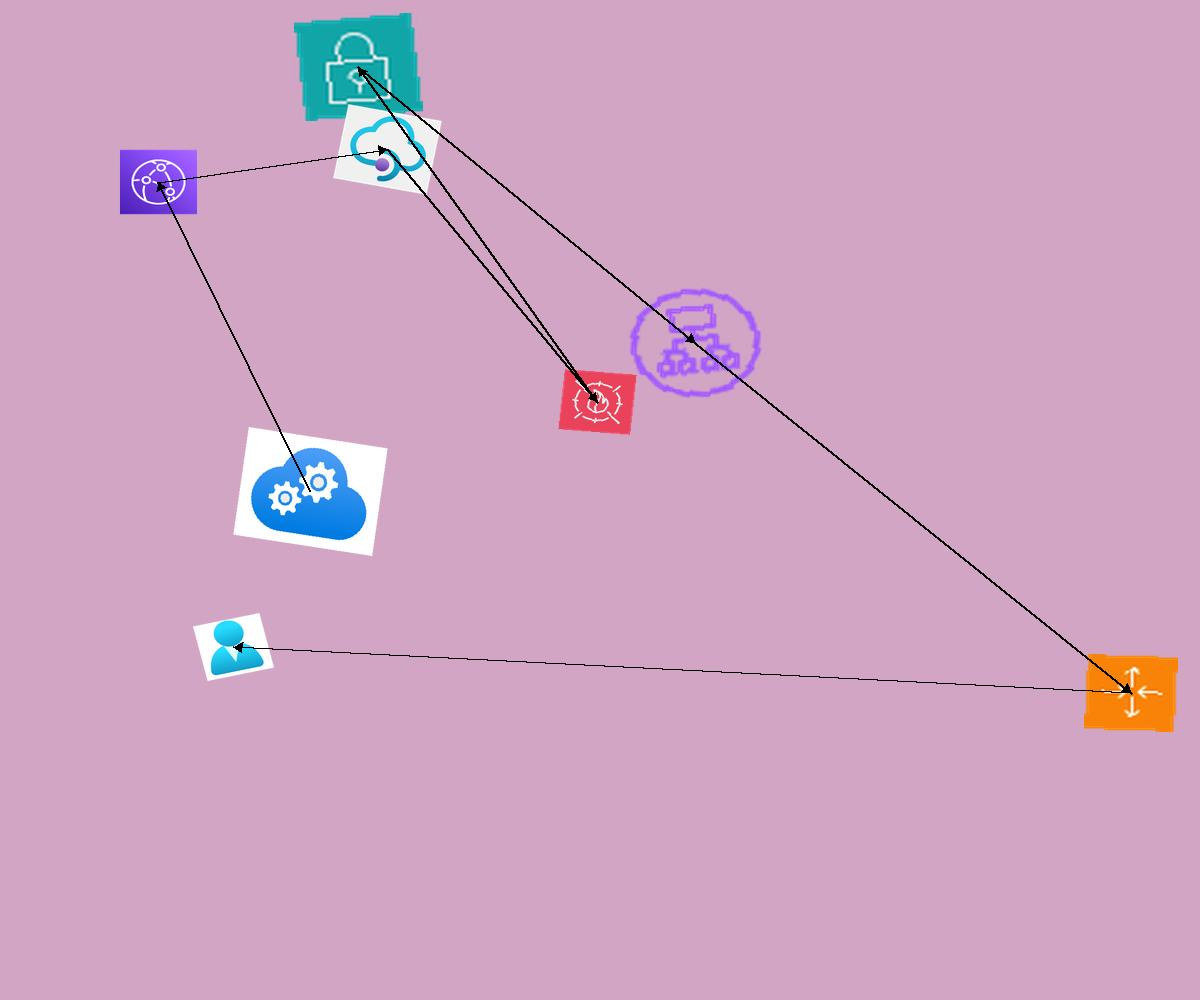AWS-CloudFront: (119, 149, 198, 215)
AWS-Private-subnet: (294, 13, 423, 121)
AWS-Res_Elastic-Load-Balancing_Application-Load-Balancer: (616, 277, 775, 409)
AWS-Scaling-group: (1084, 654, 1178, 732)
AWS-WAF: (558, 369, 637, 435)
Azure_api_gateway: (333, 104, 442, 195)
Azure_cloud_services: (233, 427, 388, 556)
Azure_users: (193, 613, 274, 681)
